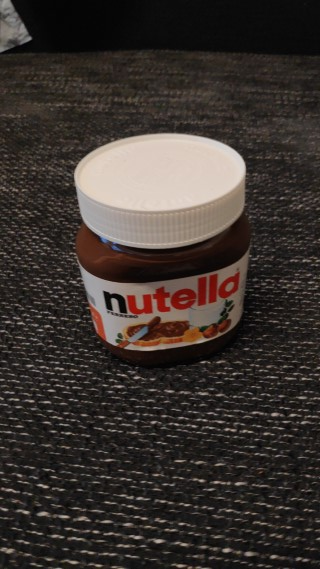nutella: (72, 128, 255, 369)
